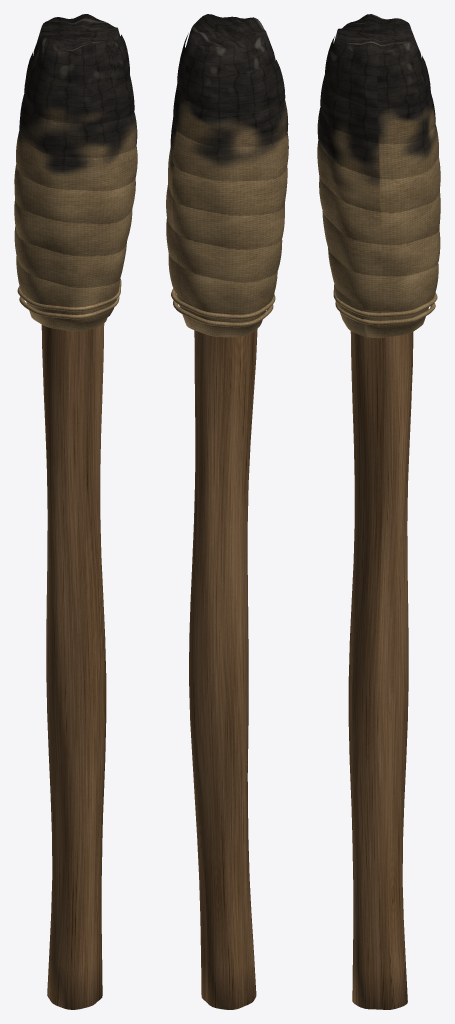
File: handheld_fire_torch.glb
3 renders of one model, left to right at view 1: azimuth 90°, elevation 25°; view 2: azimuth 210°, elevation 25°; view 3: azimuth 270°, elevation 25°, orthographic.
Visible parts, largest first — view 1: WoodenShaft, WrappedHead; view 2: WoodenShaft, WrappedHead; view 3: WoodenShaft, WrappedHead.
Boxes of the visible parts, left/top/right/bottom form: WoodenShaft: left=41, top=323, right=106, bottom=1009; WrappedHead: left=14, top=14, right=137, bottom=331; WoodenShaft: left=189, top=329, right=257, bottom=1009; WrappedHead: left=166, top=14, right=288, bottom=337; WoodenShaft: left=348, top=331, right=413, bottom=1009; WrappedHead: left=317, top=14, right=440, bottom=338.
Bounding box in the file's own units: 0.077 × 0.6782 × 0.0781.
Materials: 2 (2 with a texture image).
